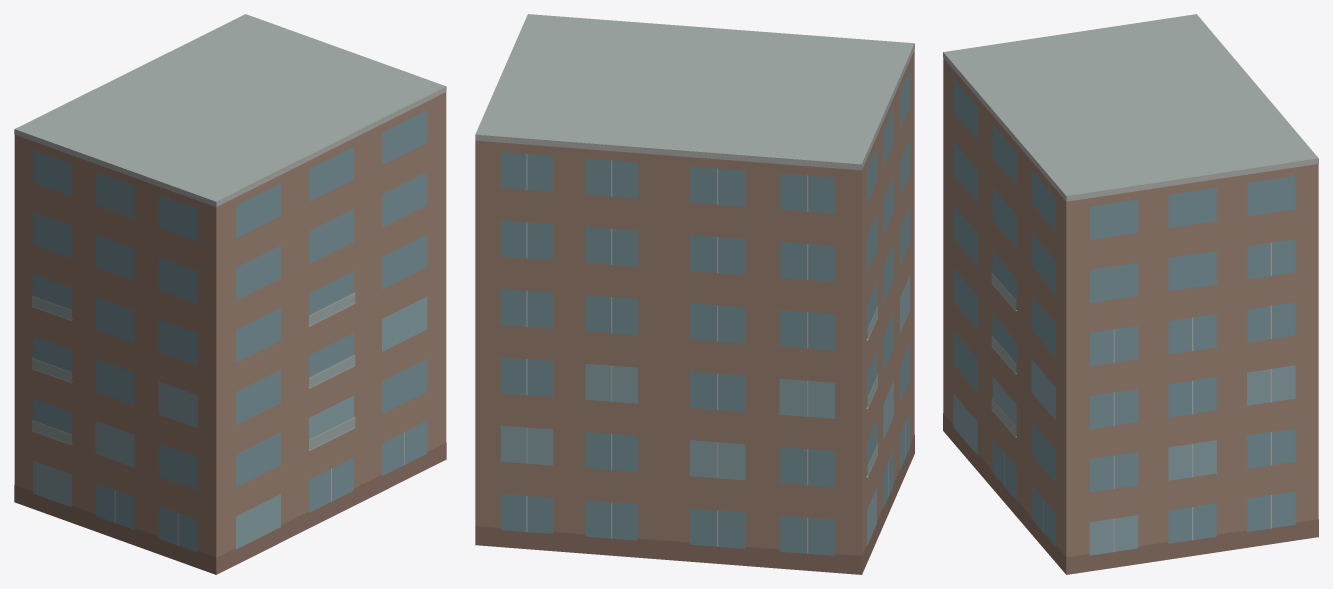
Rendered from survey-upis-32759774.glb.
The picture shows the model from 3 angles, left to right: view 1: azimuth 30°, elevation 25°; view 2: azimuth 150°, elevation 25°; view 3: azimuth 270°, elevation 25°; orthographic projection. The views are drawn at different scales.
Parts seen in each view (by area): view 1: survey-upis-32759774.tmp; view 2: survey-upis-32759774.tmp; view 3: survey-upis-32759774.tmp.
Boxes of the visible parts, <box> form: survey-upis-32759774.tmp: <box>14,14,446,574</box>; survey-upis-32759774.tmp: <box>475,14,914,574</box>; survey-upis-32759774.tmp: <box>943,14,1318,574</box>.
Bounding box in the file's own units: 17.24 × 16.7 × 15.02.
